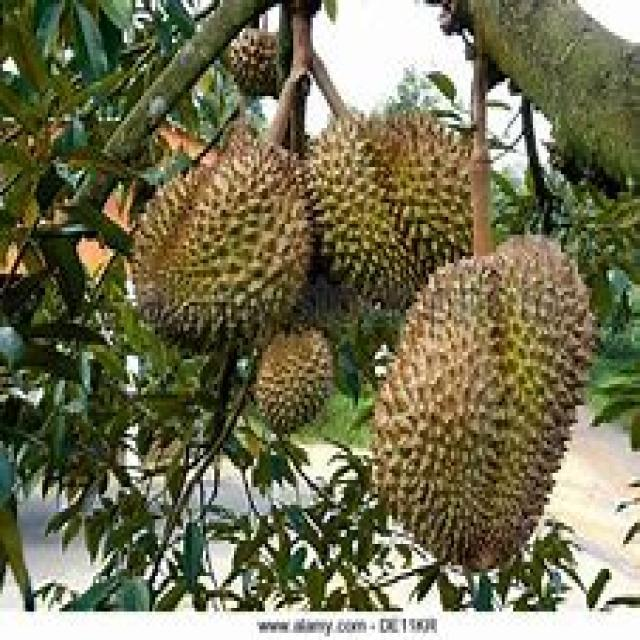mature: (374, 238, 594, 570), (132, 123, 312, 343), (311, 115, 471, 307), (255, 329, 332, 432)
